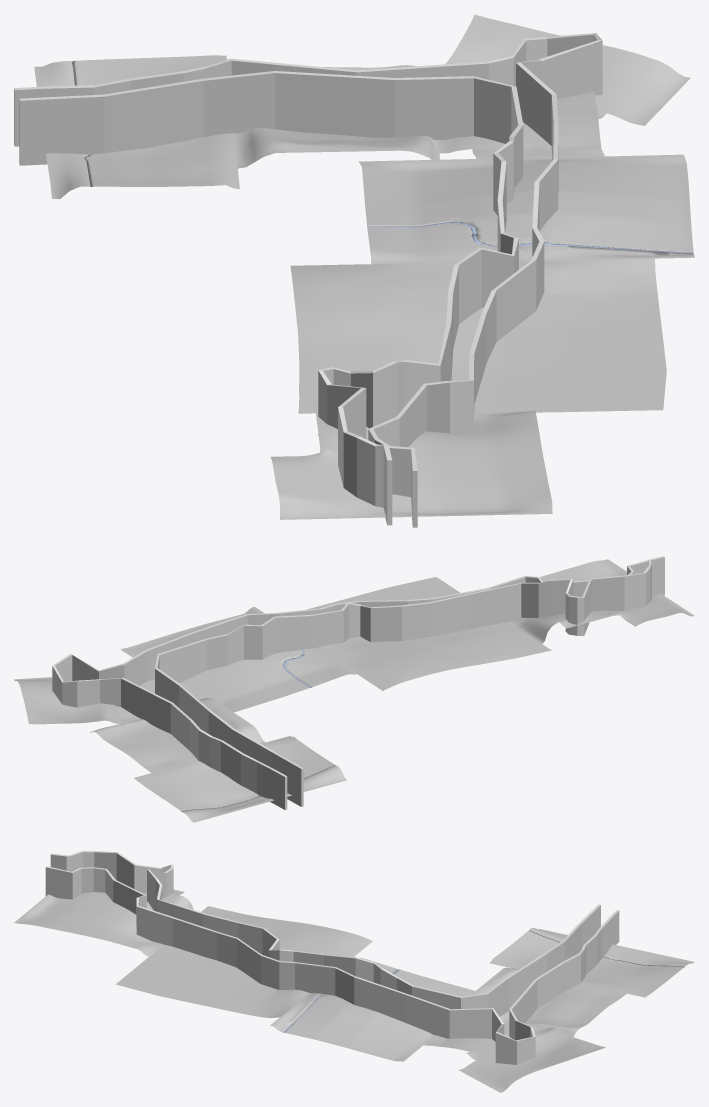
Rendered from cirkus forest walls 2 (1).fbx.
3 renders of one model, top to bottom at view 1: azimuth 30°, elevation 25°; view 2: azimuth 150°, elevation 25°; view 3: azimuth 270°, elevation 25°, orthographic. The views are drawn at different scales.
Parts seen in each view (by area): view 1: Cube.001, Module01_forest_entrance02, Module02_muddy_path01, Cube, Module04_weird_settlement02, Module03_dark_woods01, Module07_open_space01, Module5_simple_path01, Module06_winding_path01; view 2: Cube.001, Cube, Module01_forest_entrance02, Module02_muddy_path01, Module03_dark_woods01, Module5_simple_path01, Module04_weird_settlement02, Module07_open_space01; view 3: Cube, Cube.001, Module01_forest_entrance02, Module02_muddy_path01, Module03_dark_woods01, Module04_weird_settlement02, Module07_open_space01, Module5_simple_path01, Module06_winding_path01.
Part boxes in pixels (left/top/right/bottom): Cube.001: left=19, top=71, right=523, bottom=525; Module01_forest_entrance02: left=290, top=258, right=666, bottom=413; Module02_muddy_path01: left=359, top=154, right=694, bottom=264; Cube: left=14, top=33, right=602, bottom=527; Module04_weird_settlement02: left=270, top=407, right=552, bottom=519; Module03_dark_woods01: left=34, top=55, right=239, bottom=199; Module07_open_space01: left=445, top=14, right=690, bottom=125; Module5_simple_path01: left=234, top=65, right=439, bottom=168; Module06_winding_path01: left=437, top=91, right=604, bottom=158; Cube.001: left=155, top=556, right=664, bottom=806; Cube: left=52, top=560, right=648, bottom=809; Module01_forest_entrance02: left=305, top=577, right=551, bottom=690; Module02_muddy_path01: left=120, top=606, right=356, bottom=712; Module03_dark_woods01: left=134, top=736, right=346, bottom=822; Module5_simple_path01: left=90, top=698, right=265, bottom=772; Module04_weird_settlement02: left=507, top=559, right=694, bottom=643; Module07_open_space01: left=14, top=677, right=121, bottom=724; Cube: left=45, top=866, right=619, bottom=1064; Cube.001: left=50, top=851, right=600, bottom=1016; Module01_forest_entrance02: left=115, top=906, right=372, bottom=1018; Module02_muddy_path01: left=270, top=958, right=474, bottom=1061; Module03_dark_woods01: left=489, top=928, right=694, bottom=997; Module04_weird_settlement02: left=14, top=889, right=193, bottom=956; Module07_open_space01: left=458, top=1026, right=605, bottom=1092; Module5_simple_path01: left=470, top=967, right=626, bottom=1036; Module06_winding_path01: left=424, top=1022, right=536, bottom=1057.
Bounding box in the file's own units: 35733 × 4526 × 48226.
